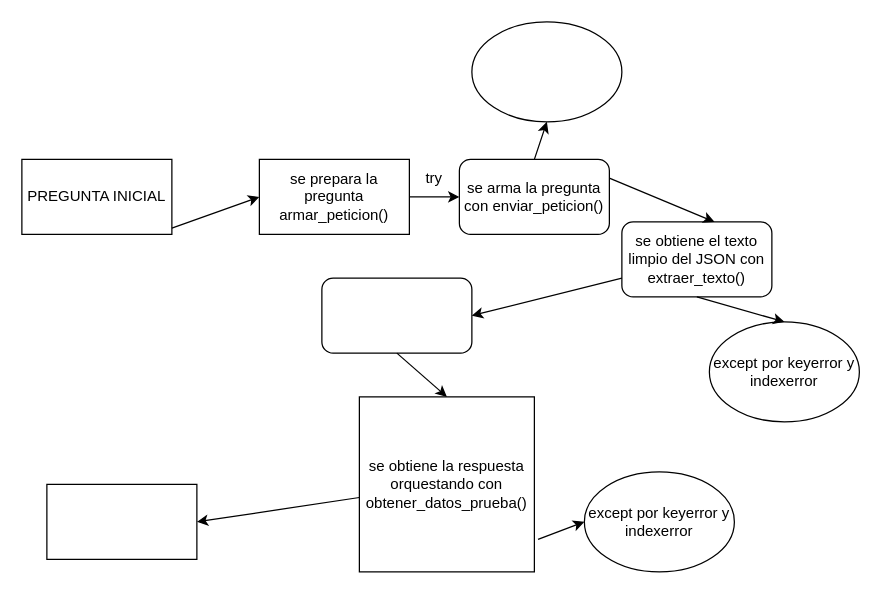
This 881x594 diagram has some shape labels left out. Here are the shapes that lost their labels. From the top down, the centre of each, then its label:
the point at 546,71: except por runtime error
the point at 396,315: se calcula el costo con calcular_costo()
the point at 121,521: RESPUESTA CON COSTO REAL DE TOKENS
